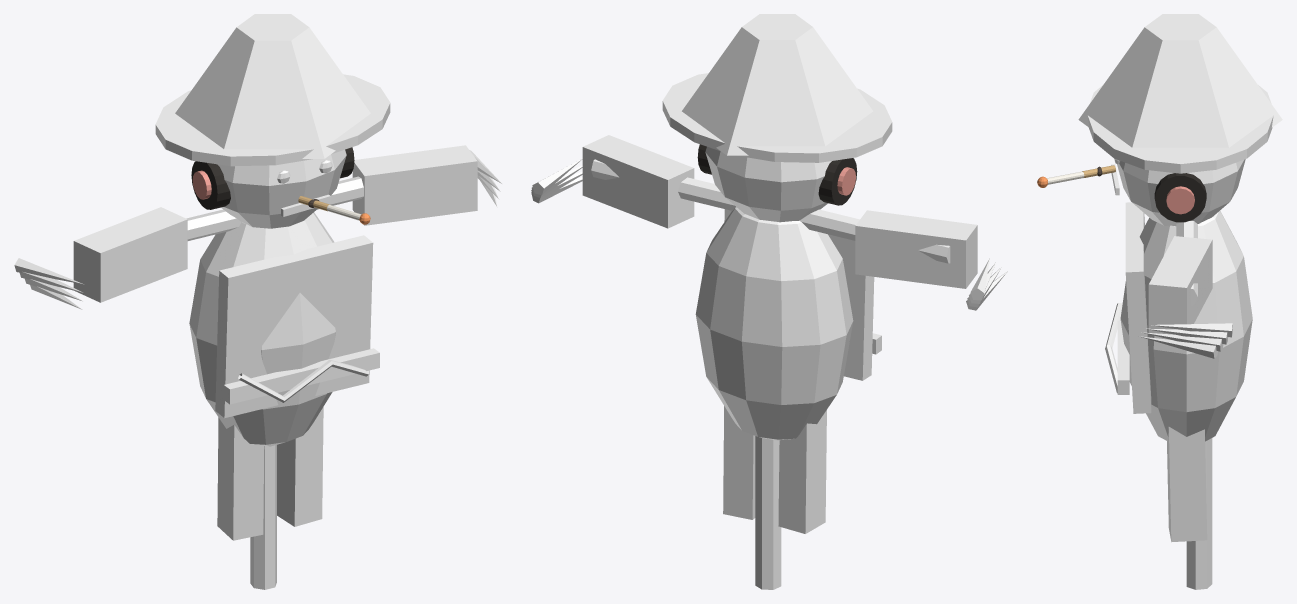
The model's file is living-scarecrow.glb.
The picture shows the model from 3 angles, left to right: view 1: azimuth 30°, elevation 25°; view 2: azimuth 150°, elevation 25°; view 3: azimuth 270°, elevation 25°; orthographic projection. The views are drawn at different scales.
Visible parts, largest first — view 1: living-scarecrow_merged_mesh, mferland_accessory_living-scarecrow_headphone_left_cup; view 2: living-scarecrow_merged_mesh, mferland_accessory_living-scarecrow_headphone_left_cup; view 3: living-scarecrow_merged_mesh, mferland_accessory_living-scarecrow_headphone_right_cup, mferland_accessory_living-scarecrow_headphone_right_accent.
Boxes of the visible parts, <box> form: living-scarecrow_merged_mesh: <box>14,14,501,589</box>; mferland_accessory_living-scarecrow_headphone_left_cup: <box>191,161,230,209</box>; living-scarecrow_merged_mesh: <box>531,14,1007,589</box>; mferland_accessory_living-scarecrow_headphone_left_cup: <box>818,158,857,205</box>; living-scarecrow_merged_mesh: <box>1078,14,1282,589</box>; mferland_accessory_living-scarecrow_headphone_right_cup: <box>1154,173,1206,222</box>; mferland_accessory_living-scarecrow_headphone_right_accent: <box>1166,186,1194,214</box>.
Size of the model in its own units: 1.79 by 2.04 by 0.8174.
